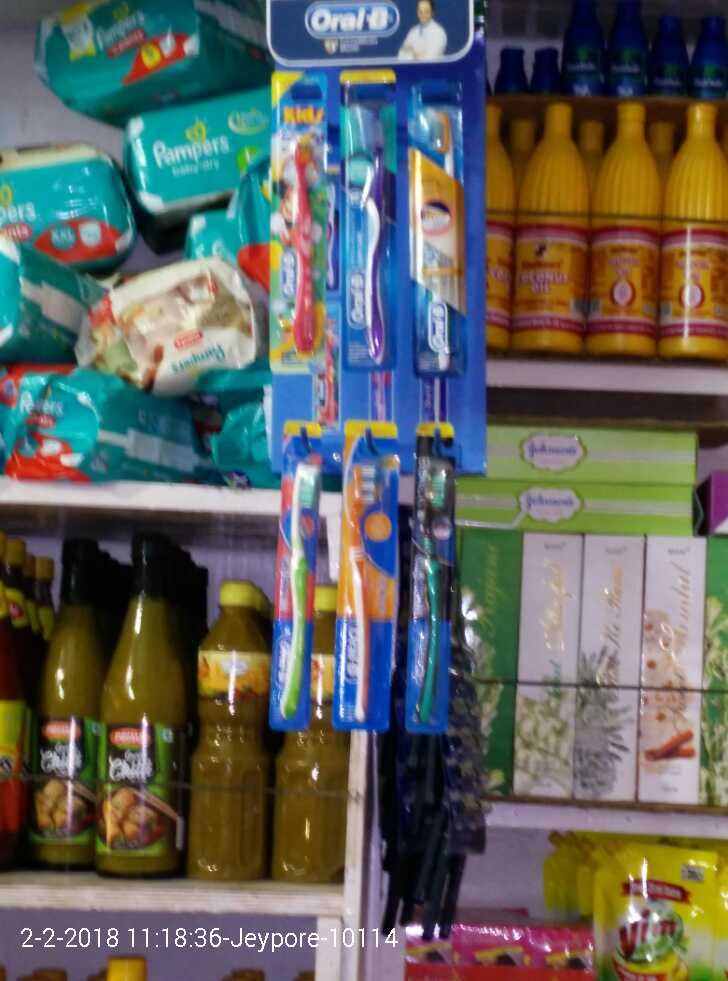pharmacy: (23, 357, 206, 493), (81, 256, 261, 385), (336, 423, 411, 731), (265, 65, 337, 376), (405, 71, 472, 379), (133, 84, 286, 212), (270, 413, 330, 735), (336, 71, 392, 377), (411, 423, 459, 734)
